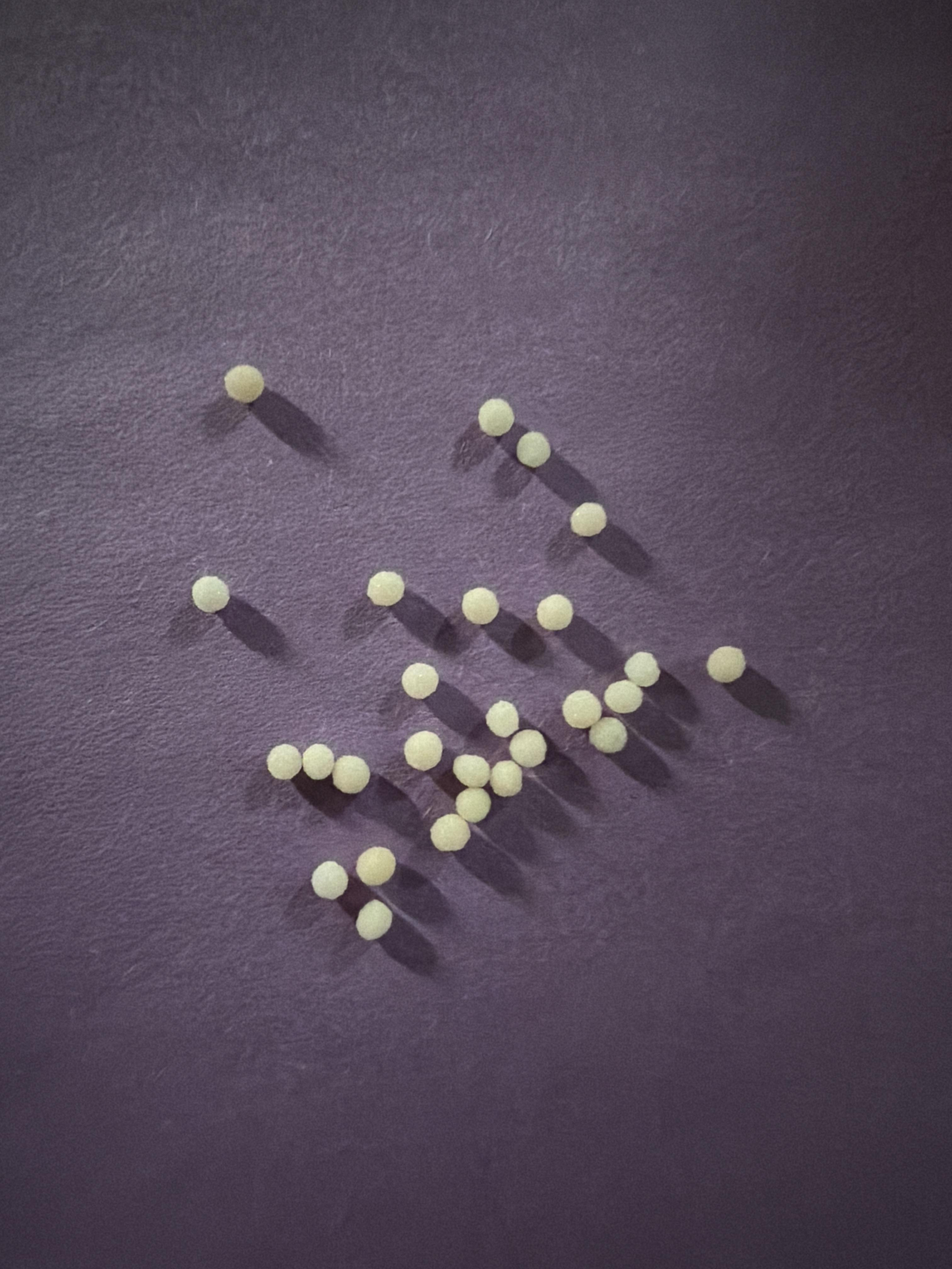pill: (562, 689, 602, 729), (355, 847, 396, 886), (224, 364, 264, 403), (404, 730, 442, 771), (431, 813, 470, 852), (356, 899, 393, 940), (509, 729, 547, 768), (332, 755, 370, 794), (311, 861, 348, 900), (191, 576, 230, 613), (707, 646, 745, 683), (462, 587, 499, 625), (588, 717, 627, 753), (536, 594, 573, 631), (401, 663, 439, 699), (478, 398, 514, 436), (366, 571, 405, 606), (266, 743, 302, 780), (604, 679, 643, 713), (624, 651, 660, 687), (516, 431, 551, 468), (570, 502, 607, 537), (485, 700, 519, 738), (453, 754, 490, 788), (455, 787, 490, 822), (301, 743, 334, 780), (490, 760, 522, 797)
